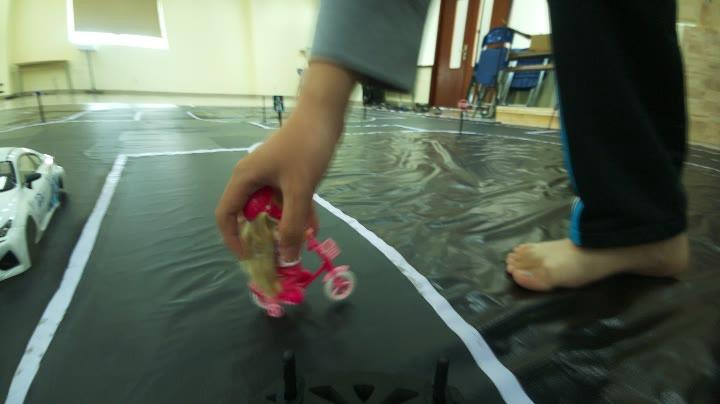pedestrian: (238, 189, 354, 313)
